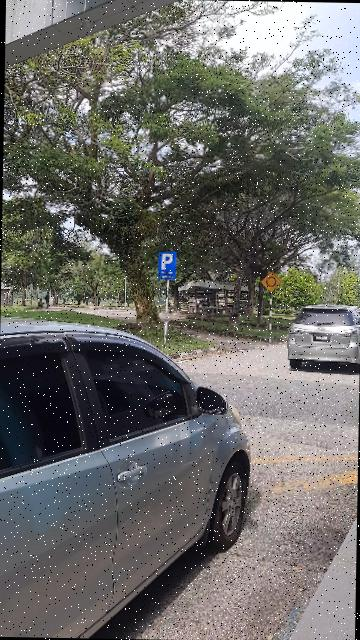License_Plate: (312, 334, 332, 343)
car: (1, 314, 259, 640), (286, 305, 360, 370)
